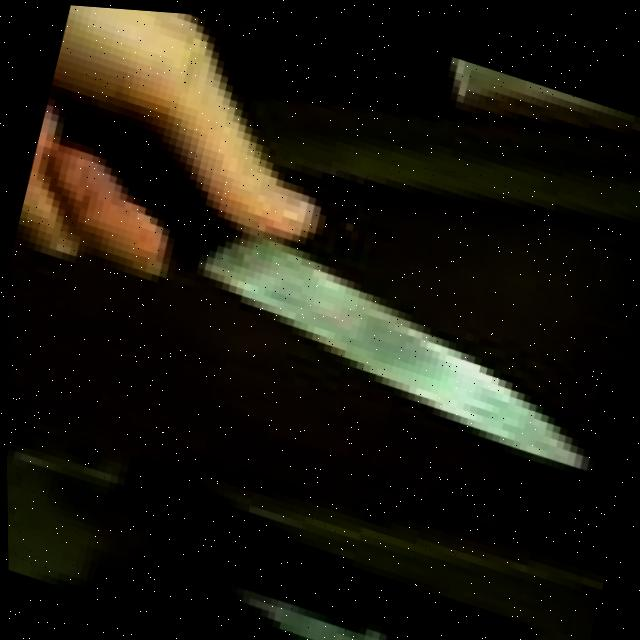knife: (181, 217, 622, 468)
